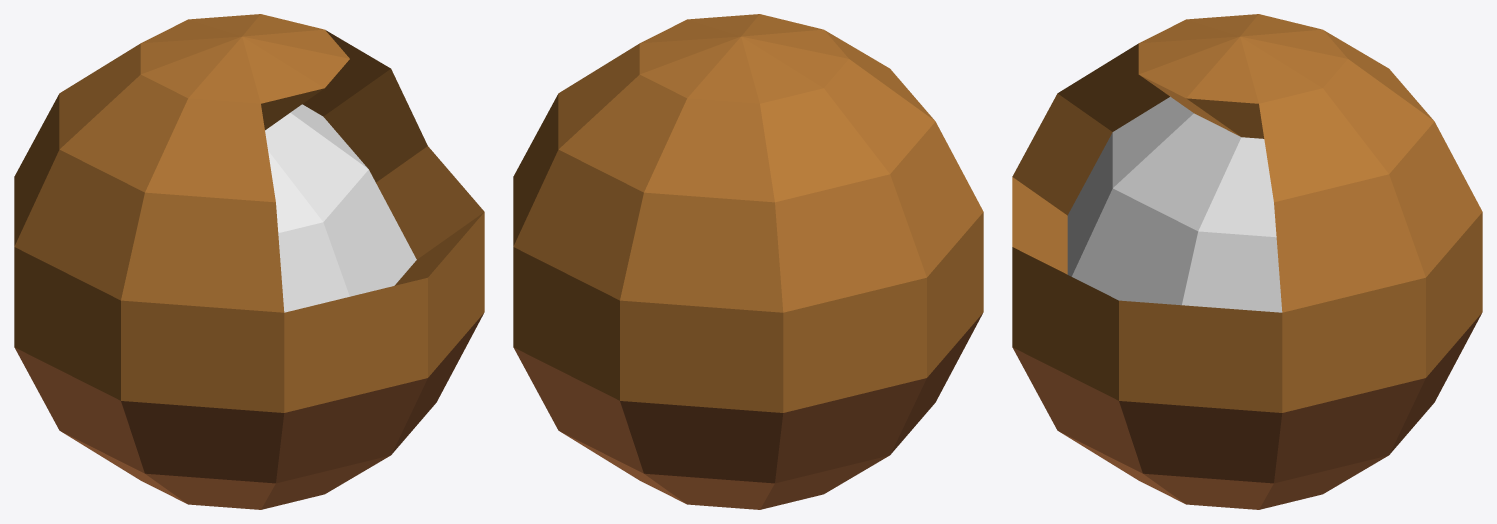
Rendered from CocoPickUp.fbx.
The picture shows the model from 3 angles, left to right: view 1: azimuth 30°, elevation 25°; view 2: azimuth 150°, elevation 25°; view 3: azimuth 270°, elevation 25°; orthographic projection.
Visible parts, largest first — view 1: Sphere; view 2: Sphere; view 3: Sphere.
Part boxes in pixels (box(x1,y1,x2,y2)): Sphere: box(14, 14, 484, 509); Sphere: box(513, 14, 983, 509); Sphere: box(1012, 14, 1482, 509).
Size of the model in its own units: 1.92 by 1.89 by 2.
